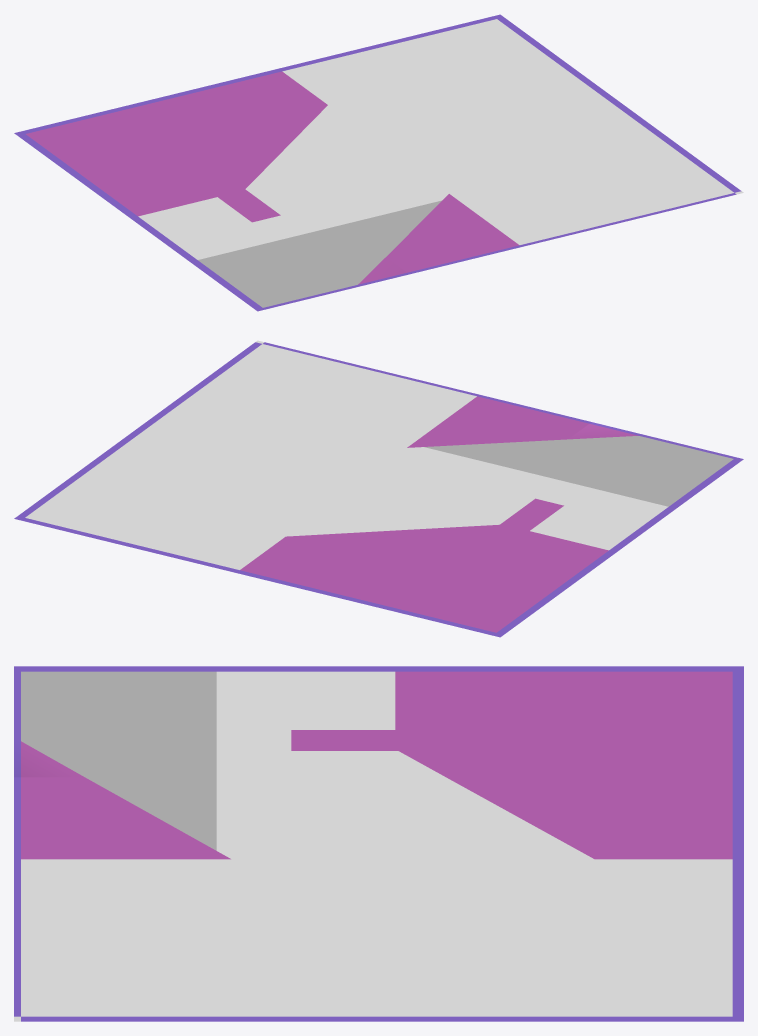
Rendered from StudioMainGround_01_Mesh.fbx.
3 renders of one model, top to bottom at view 1: azimuth 30°, elevation 25°; view 2: azimuth 150°, elevation 25°; view 3: azimuth 270°, elevation 25°, orthographic. The views are drawn at different scales.
Parts seen in each view (by area): view 1: StudioMainGround_01_Mesh; view 2: StudioMainGround_01_Mesh; view 3: StudioMainGround_01_Mesh.
Part boxes in pixels (<box>): StudioMainGround_01_Mesh: <box>14,14,743,311</box>; StudioMainGround_01_Mesh: <box>14,340,743,637</box>; StudioMainGround_01_Mesh: <box>14,666,743,1021</box>.
Bounding box in the file's own units: 31.89 × 6.59e-07 × 27.67.
